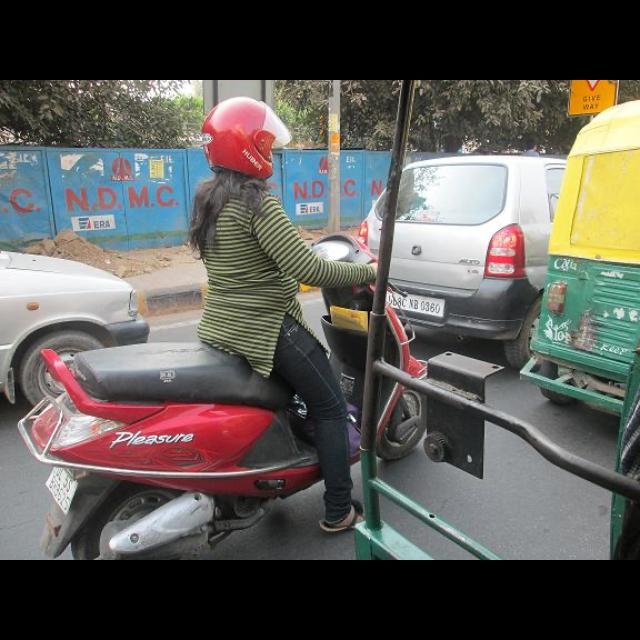With Helmet: (198, 95, 294, 182)
